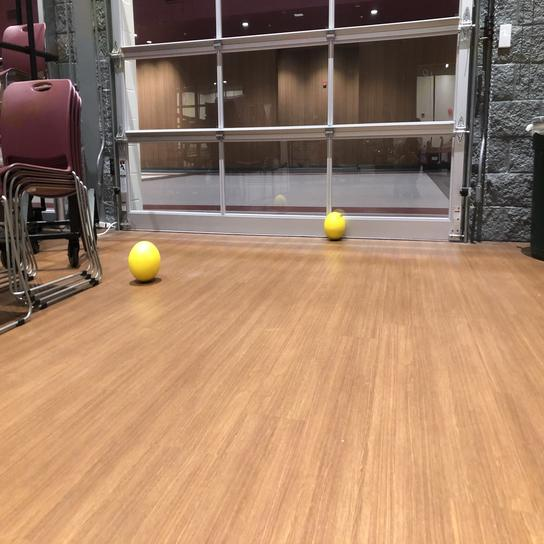ball: (125, 239, 163, 286), (322, 208, 348, 241)
